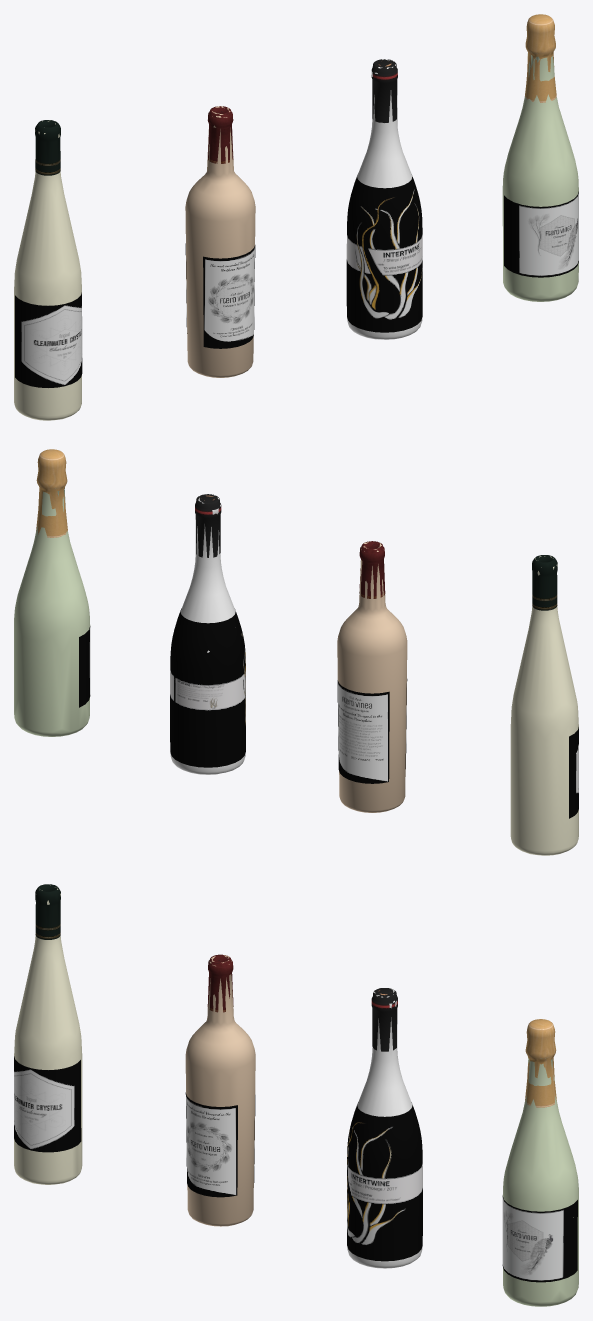
File: wine_bottles_01.glb
3 views of the same model, one above another, from view 1: azimuth 30°, elevation 25°; view 2: azimuth 150°, elevation 25°; view 3: azimuth 330°, elevation 25° (orthographic).
Parts seen in each view (by area): view 1: wine_bottles_01_bordeaux, wine_bottles_01_burgundy, wine_bottles_01_alsace, wine_bottles_01_champagne; view 2: wine_bottles_01_bordeaux, wine_bottles_01_burgundy, wine_bottles_01_champagne, wine_bottles_01_alsace; view 3: wine_bottles_01_bordeaux, wine_bottles_01_burgundy, wine_bottles_01_alsace, wine_bottles_01_champagne.
Part boxes in pixels (<box>): wine_bottles_01_bordeaux: <box>14,14,578,420</box>; wine_bottles_01_burgundy: <box>346,175,422,332</box>; wine_bottles_01_alsace: <box>15,292,82,387</box>; wine_bottles_01_champagne: <box>504,191,578,277</box>; wine_bottles_01_bordeaux: <box>14,449,578,855</box>; wine_bottles_01_burgundy: <box>170,608,245,767</box>; wine_bottles_01_champagne: <box>79,626,90,707</box>; wine_bottles_01_alsace: <box>569,727,578,818</box>; wine_bottles_01_bordeaux: <box>14,884,578,1306</box>; wine_bottles_01_burgundy: <box>347,1102,422,1261</box>; wine_bottles_01_alsace: <box>14,1056,81,1152</box>; wine_bottles_01_champagne: <box>502,1196,577,1282</box>.
Size of the model in its own units: 0.6763 by 0.3314 by 0.0805.
Materials: 9 (6 with a texture image).
